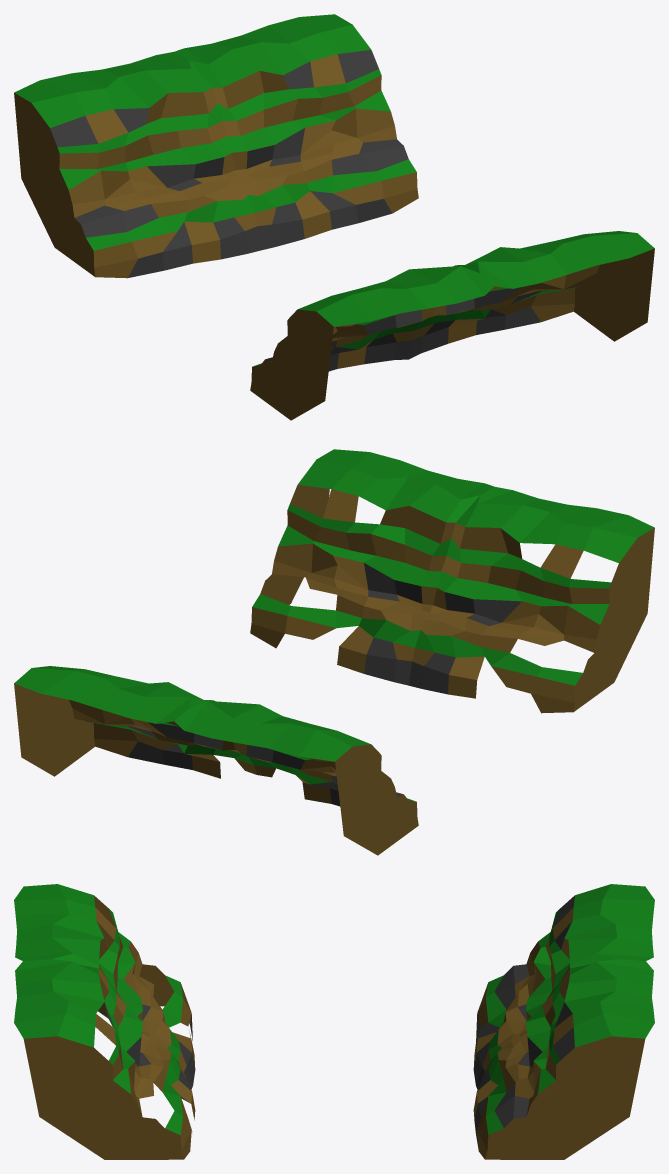
File: side-5.fbx
3 renders of one model, top to bottom at view 1: azimuth 30°, elevation 25°; view 2: azimuth 150°, elevation 25°; view 3: azimuth 270°, elevation 25°, orthographic. The views are drawn at different scales.
Visible parts, largest first — view 1: greenravine5.010; view 2: greenravine5.010; view 3: greenravine5.010.
Boxes of the visible parts, x1,y1,x2,y2 form: greenravine5.010: [14, 14, 654, 420]; greenravine5.010: [14, 449, 654, 855]; greenravine5.010: [14, 884, 654, 1159].
Bounding box in the file's own units: 1316 × 548 × 2323.
